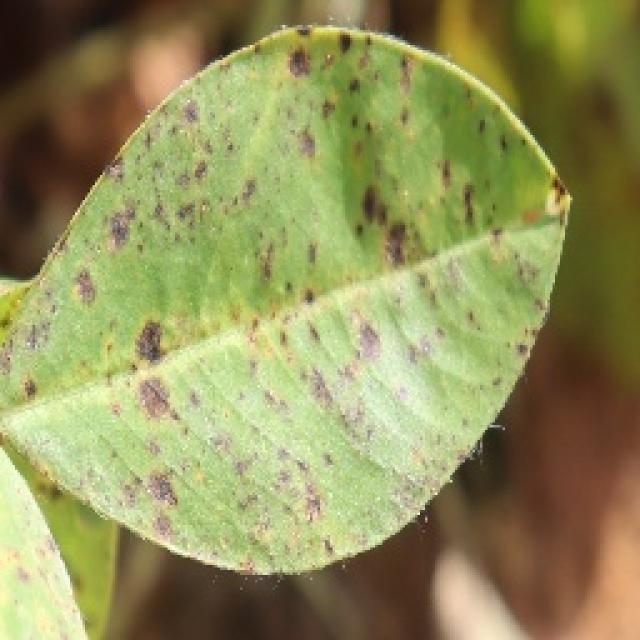Yellowish: (0, 5, 559, 621)
